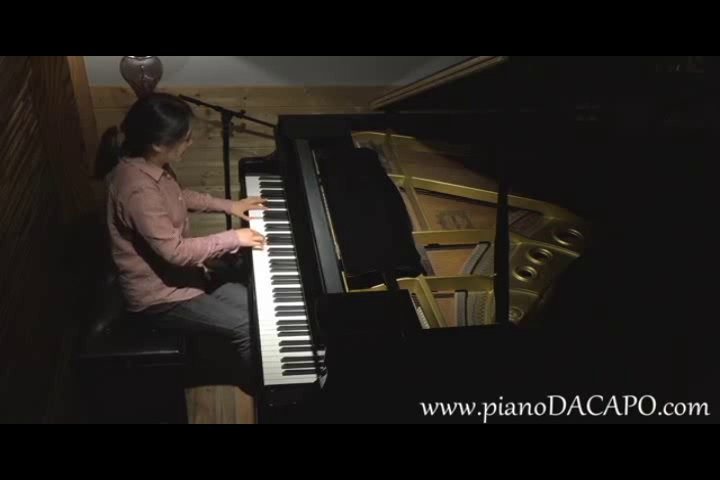keyboard: (237, 156, 318, 393)
